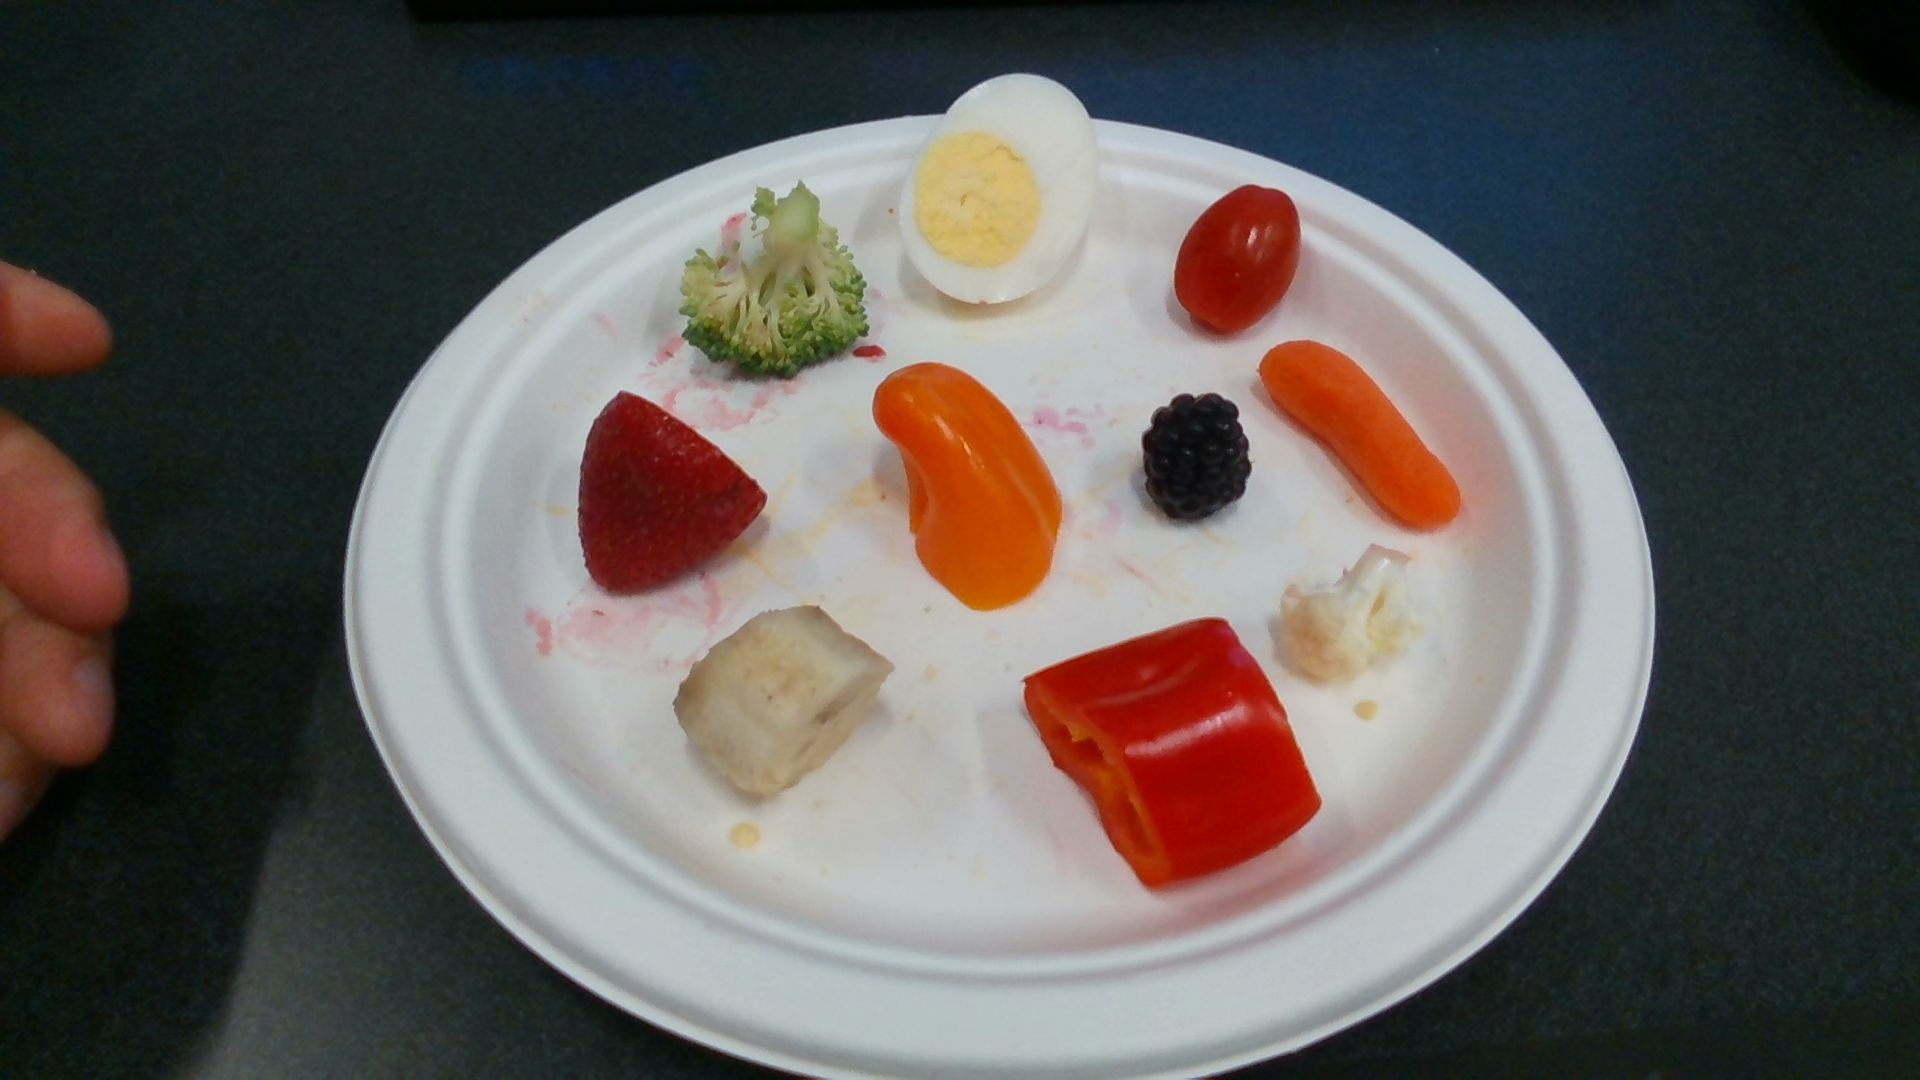banana: (675, 605, 887, 793)
bell_pepper: (1027, 618, 1320, 891), (876, 365, 1060, 608)
blackberry: (1142, 400, 1249, 525)
broccoli: (684, 183, 865, 371)
carrot: (1262, 340, 1458, 531)
cauliflower: (1284, 546, 1419, 684)
cherry_tomato: (1175, 189, 1300, 331)
egg: (902, 73, 1100, 305)
strawberry: (580, 393, 765, 588)
